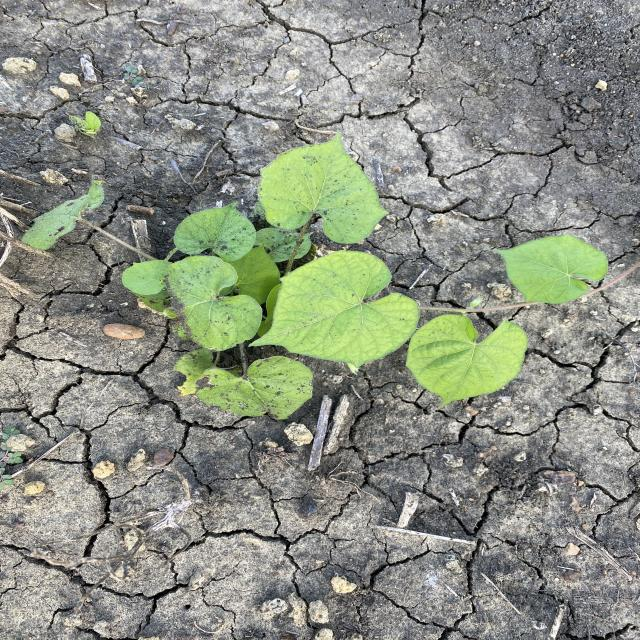MorningGlory: (17, 128, 614, 422)
